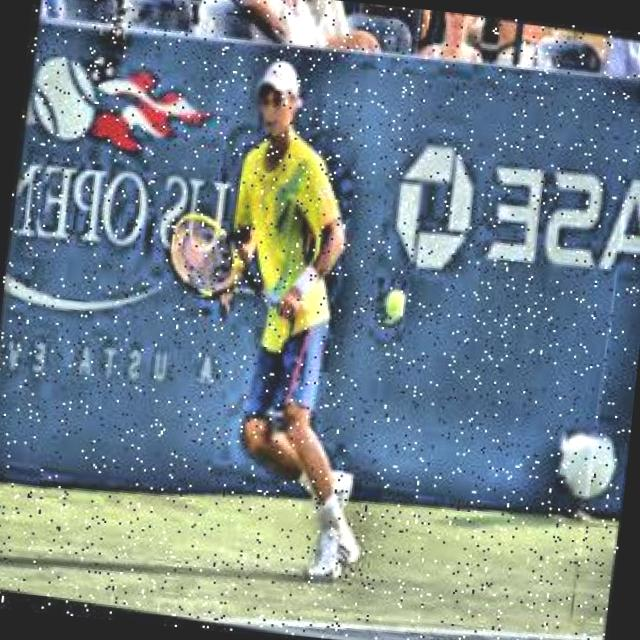Tennis Ball: (371, 290, 404, 328)
